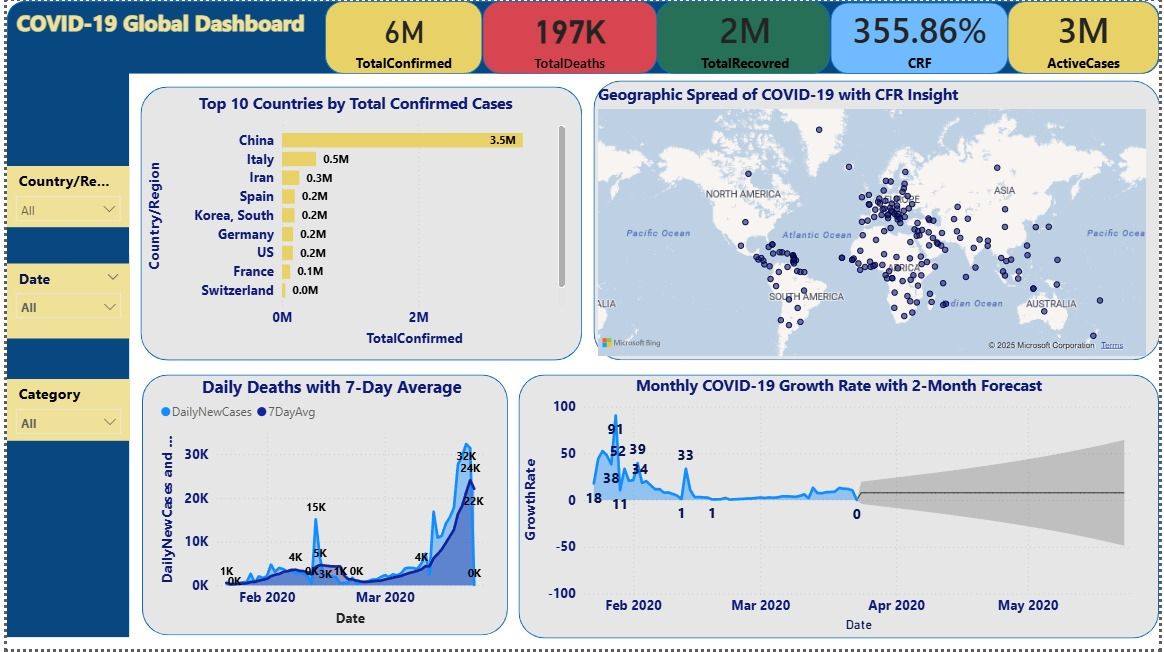

The dashboard page shown, as its layout file describes it:
{"tool":"powerbi","page":{"name":"Page 1","canvas":[1280,720],"ordinal":0},"visuals":[{"type":"shape","box":[0,0,1280.8,81],"z":0},{"type":"shape","box":[722.2,0,192.7,81],"z":1000},{"type":"shape","box":[914.9,1.6,197.5,79.3],"z":2000},{"type":"shape","box":[1112.4,0,168.4,81],"z":3000},{"type":"shape","box":[353,0,174.9,81],"z":4000},{"type":"card","fields":{"Values":["confirmed.TotalConfirmed"]},"box":[353.3,0,175,81.7],"z":5000},{"type":"shape","box":[527.9,0,194.3,81],"z":6000},{"type":"card","fields":{"Values":["death.TotalDeaths"]},"box":[528.3,0,193.3,81.7],"z":7000},{"type":"card","fields":{"Values":["recovered.TotalRecovred"]},"box":[723.3,0,193.3,81.7],"z":8000},{"type":"card","fields":{"Values":["confirmed.ActiveCases"]},"box":[1111.7,0,168.3,81.7],"z":9000},{"type":"card","fields":{"Values":["confirmed.CRF"]},"box":[916.5,0,194.3,81],"z":10000},{"type":"shape","box":[0,42.1,136,665.5],"z":11000},{"type":"shape","box":[149,95.5,490.6,304.4],"z":12000},{"type":"clusteredBarChart","title":"Top 10 Countries by Total Confirmed Cases","fields":{"Y":["confirmed.TotalConfirmed"],"Category":["confirmed.Country/Region"]},"box":[150,101.7,488.3,298.3],"z":13000},{"type":"shape","box":[650.9,89.1,629.9,310.9],"z":14000},{"type":"map","title":"Geographic Spread of COVID-19 with CFR Insight","fields":{"Category":["confirmed.Country/Region"]},"box":[650.9,92.3,618.5,307.7],"z":15000},{"type":"shape","box":[568.3,415,711.7,293.3],"z":16000},{"type":"lineChart","title":"Monthly COVID-19 Growth Rate with 2-Month Forecast","fields":{"Y":["confirmed.GrowthRate"],"Category":["confirmed.Date"]},"box":[568.3,415,711.7,290],"z":17000},{"type":"slicer","fields":{"Values":["confirmed.Country/Region"]},"box":[0,183,136,68],"z":18000},{"type":"slicer","fields":{"Values":["confirmed.Date"]},"box":[0,291.7,136.7,83.3],"z":19000},{"type":"shape","box":[150.6,414.5,406.4,289.8],"z":20000},{"type":"lineChart","title":"Daily Deaths with 7-Day Average","fields":{"Category":["confirmed.Date"],"Y":["confirmed.DailyNewCases","confirmed.7DayAvg"]},"box":[165.2,414.5,391.9,285],"z":21000},{"type":"slicer","fields":{"Values":["Append1.Category"]},"box":[0,420,136.7,68.3],"z":22000},{"type":"textbox","box":[0,1.7,341.7,80],"z":23000}]}

Visuals, with their boxes in screenshot pixels (x1, y1, x2, y2), scaled from the page's 1280x720 canvas onto the 1164x652 screenshot:
shape: (0,0,1163,73)
shape: (657,0,832,73)
shape: (832,1,1012,73)
shape: (1012,0,1163,73)
shape: (321,0,480,73)
card - confirmed.TotalConfirmed: (321,0,480,74)
shape: (480,0,657,73)
card - death.TotalDeaths: (480,0,656,74)
card - recovered.TotalRecovred: (658,0,834,74)
card - confirmed.ActiveCases: (1011,0,1163,74)
card - confirmed.CRF: (833,0,1010,73)
shape: (0,38,124,641)
shape: (135,86,582,362)
"Top 10 Countries by Total Confirmed Cases" clusteredBarChart: (136,92,580,362)
shape: (592,81,1163,362)
"Geographic Spread of COVID-19 with CFR Insight" map: (592,84,1154,362)
shape: (517,376,1163,641)
"Monthly COVID-19 Growth Rate with 2-Month Forecast" lineChart: (517,376,1163,638)
slicer - confirmed.Country/Region: (0,166,124,227)
slicer - confirmed.Date: (0,264,124,340)
shape: (137,375,507,638)
"Daily Deaths with 7-Day Average" lineChart: (150,375,507,633)
slicer - Append1.Category: (0,380,124,442)
textbox: (0,2,311,74)
